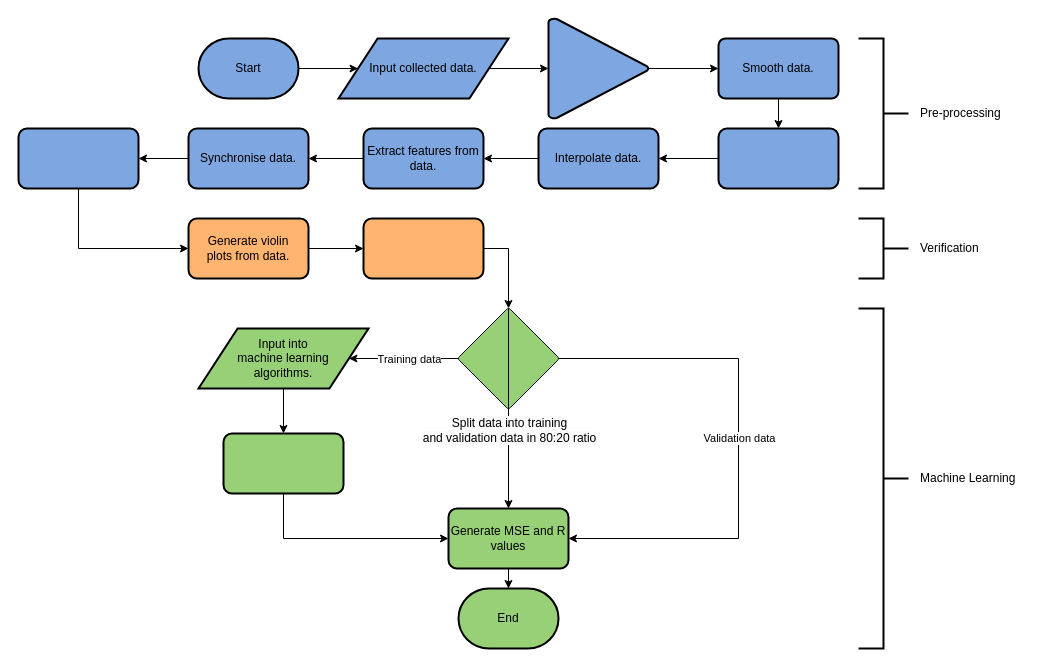
This 1055x666 diagram has some shape labels left out. The shapes that lost their labels are listed below. From the top down, each one's centre as x and y in pixels, then its label:
the point at 598,68: Merge data files.
the point at 78,158: Normalise data.
the point at 778,158: Remove anomalous values from data.
the point at 423,248: Perform Wilcoxon signed-rank test on data.
the point at 283,463: Generate predicted values.
